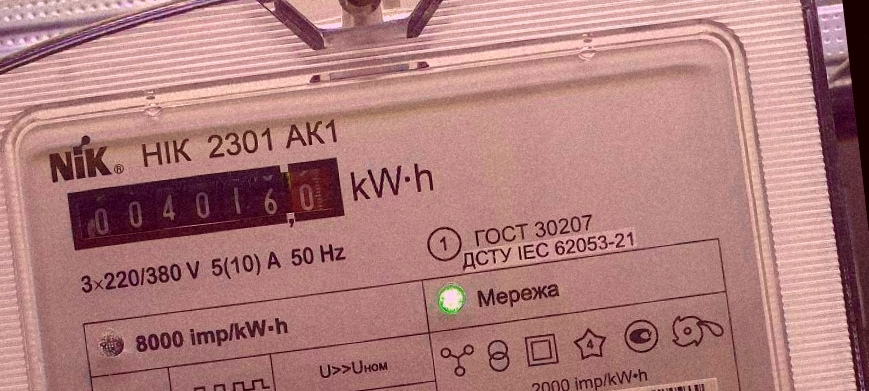0: (189, 185, 214, 222), (89, 202, 113, 237), (123, 195, 146, 231), (293, 179, 317, 213)
1: (227, 181, 246, 216)
4: (156, 188, 178, 224)
6: (257, 182, 280, 216)
screen: (58, 149, 354, 258)
